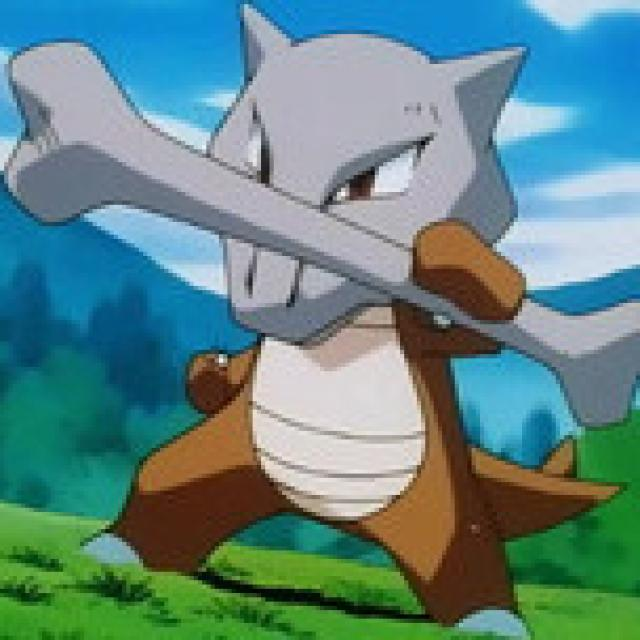Marowak: (124, 40, 530, 577)
